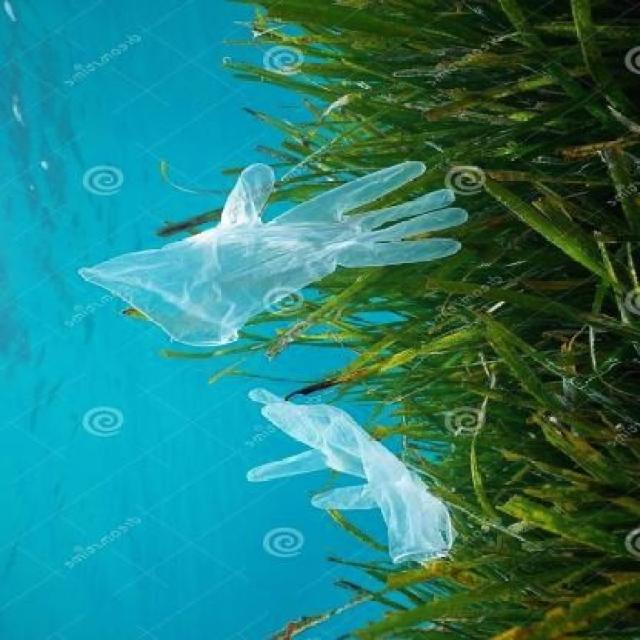glove: (75, 156, 473, 362), (244, 380, 465, 572)
